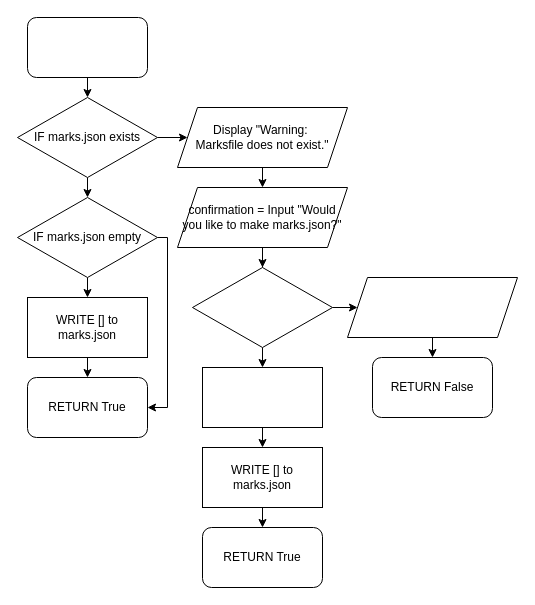
Some shapes in this 535 by 605 pixel diagram are drawn without their labels. The centre of each missing label's shape, as x and y in pixels:
BEGIN marksfile_exists(): [87,47]
CREATE marks.json: [262,397]
Display "Warning: File not created.": [432,307]
IF confirmation = yes: [262,307]
